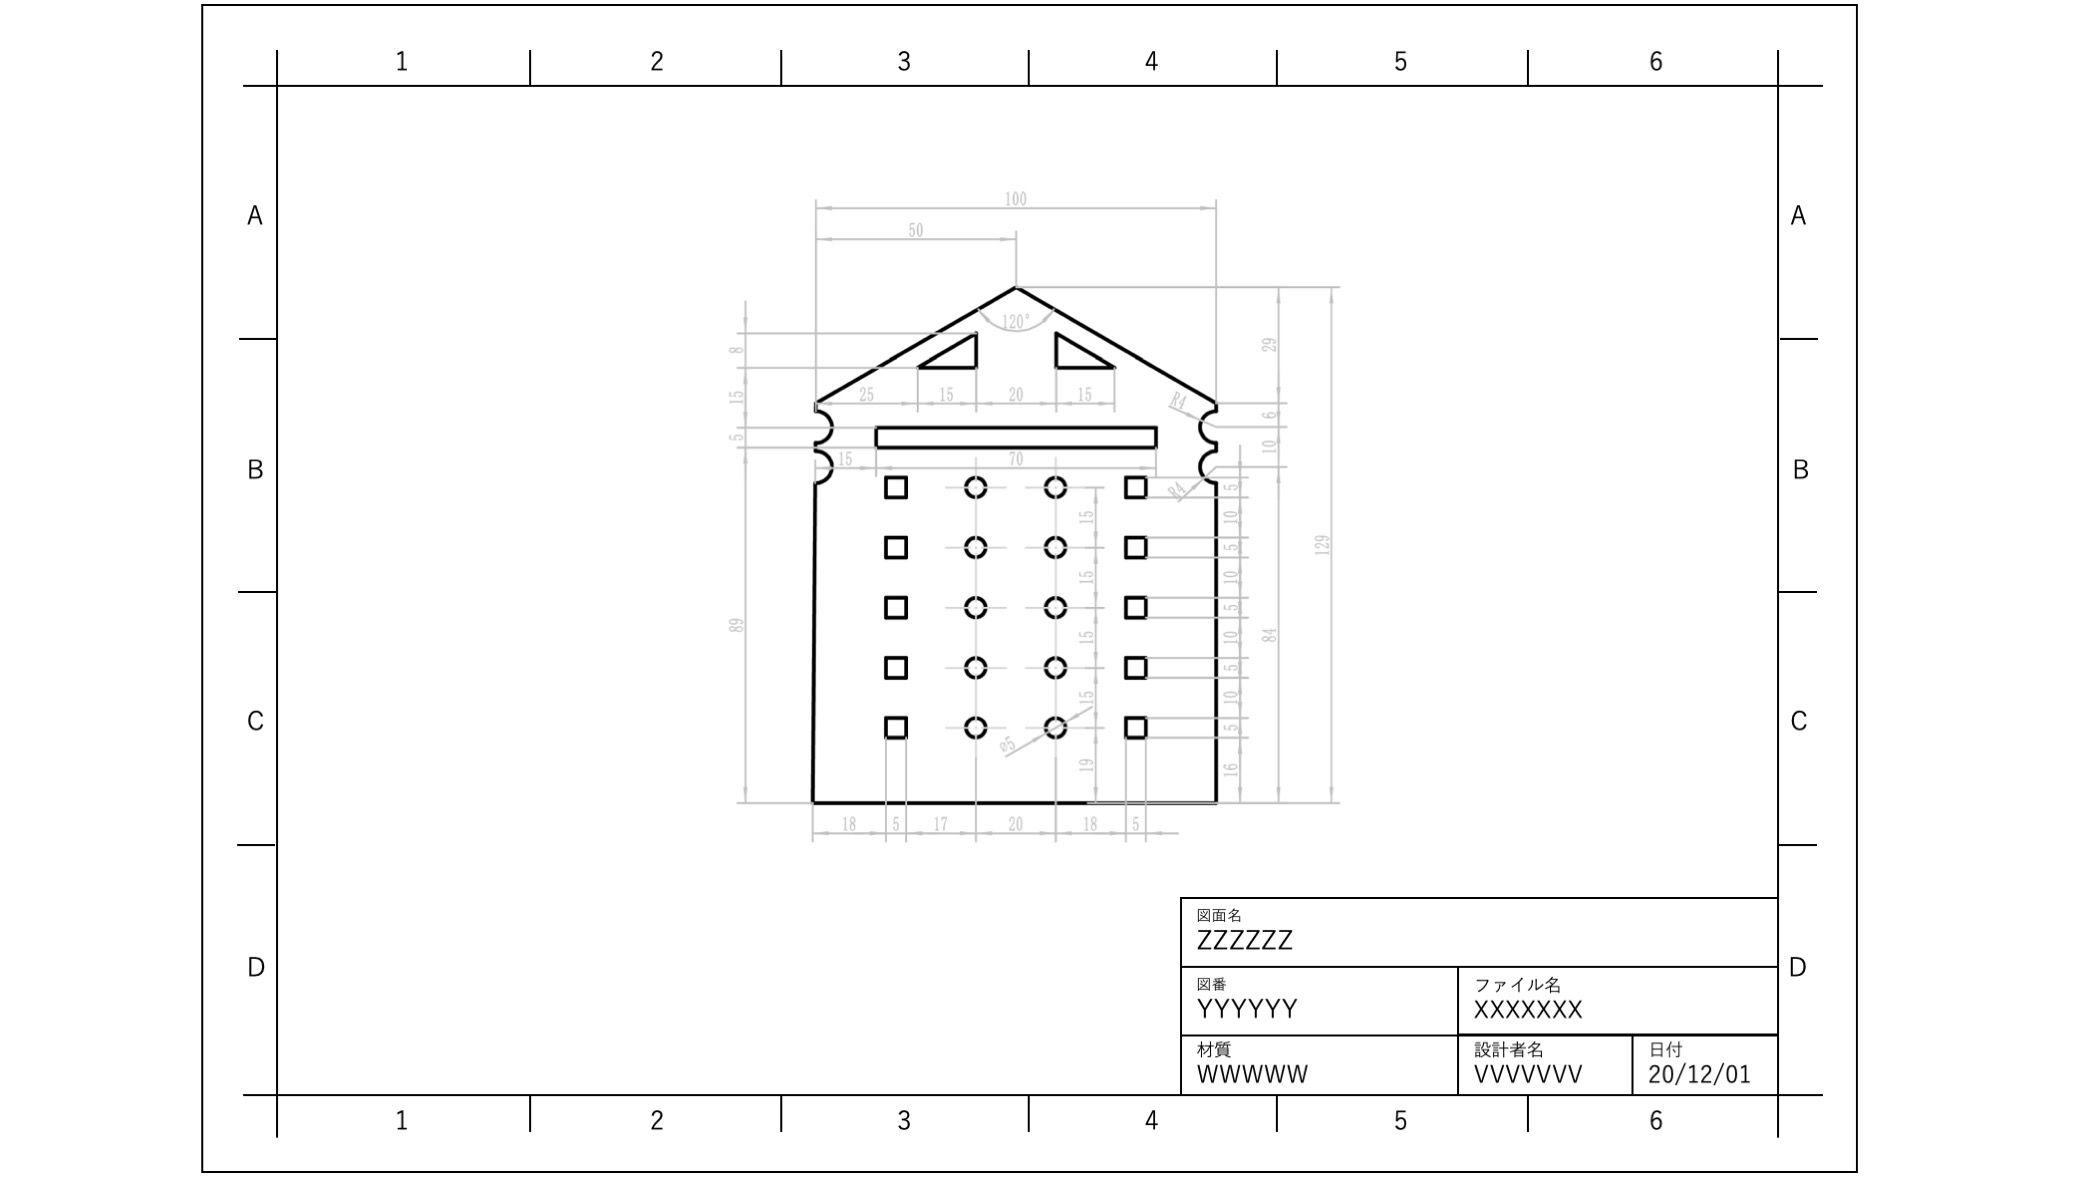circle: (961, 588, 992, 622), (959, 531, 989, 561), (961, 712, 989, 738), (1040, 474, 1069, 500), (962, 653, 987, 681), (1043, 650, 1067, 678), (1041, 534, 1069, 558), (1043, 712, 1067, 738), (1043, 591, 1067, 617), (963, 473, 987, 499)
rectangle: (870, 420, 1161, 451), (881, 652, 914, 682), (881, 531, 912, 562), (1121, 531, 1152, 561), (883, 714, 912, 744), (1121, 650, 1150, 681), (1121, 469, 1148, 500), (1118, 591, 1150, 619), (1121, 712, 1152, 740), (881, 472, 910, 500), (883, 591, 910, 622)
triangle: (1051, 327, 1118, 373), (914, 329, 979, 373)
